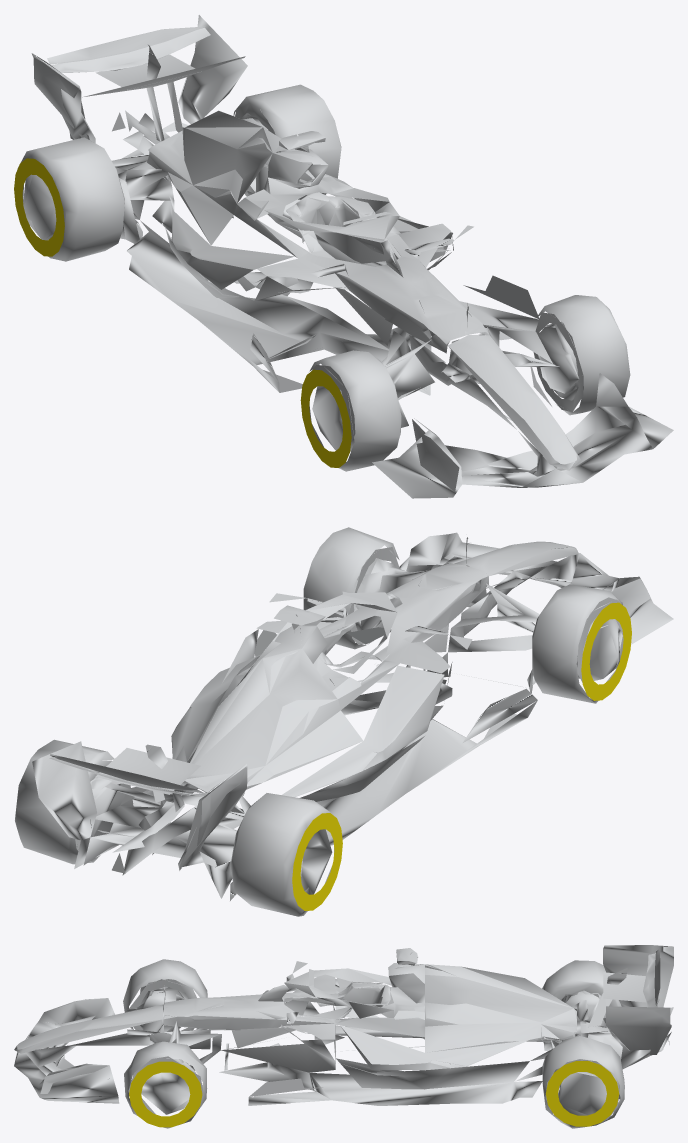
3 views of the same model, one above another, from view 1: azimuth 30°, elevation 25°; view 2: azimuth 150°, elevation 25°; view 3: azimuth 270°, elevation 25° (orthographic). The views are drawn at different scales.
Parts seen in each view (by area): view 1: body, rings; view 2: body, rings; view 3: body, rings.
Part boxes in pixels (x1,y1,x2,y2): body: (17, 15, 673, 498); rings: (14, 158, 351, 467); body: (15, 527, 673, 916); rings: (292, 602, 631, 910); body: (14, 945, 673, 1128); rings: (129, 1061, 619, 1127).
Bounding box in the file's own units: 1.92 × 1.18 × 5.38.
